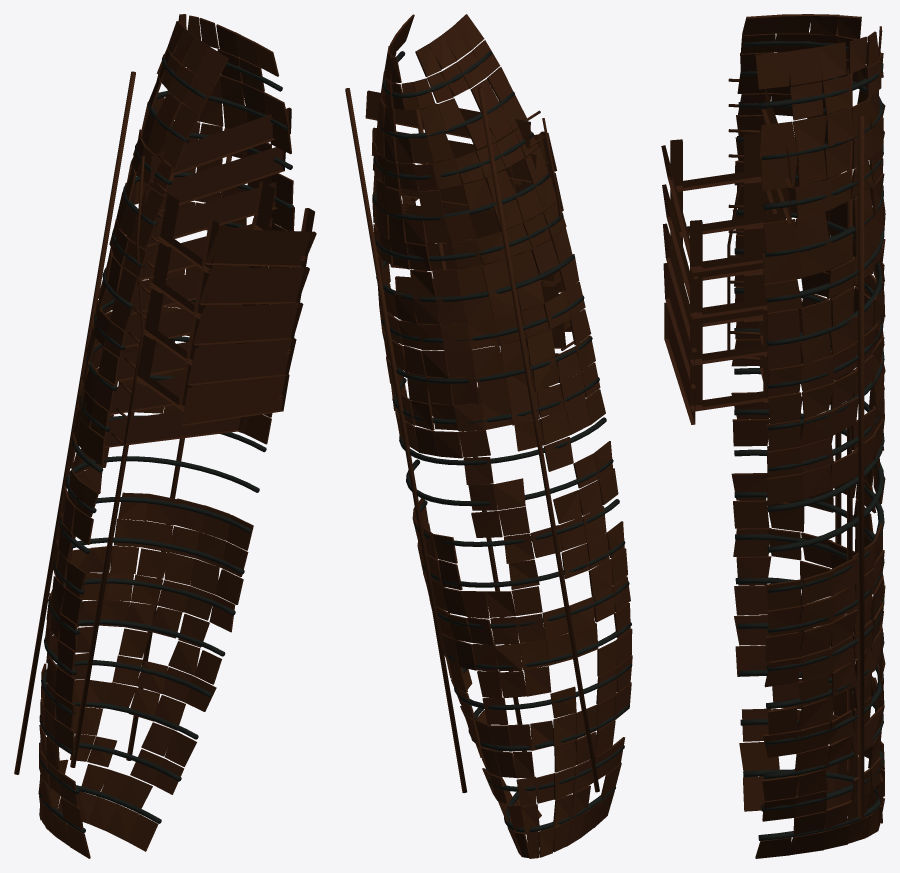
The model's file is shipwreck.obj.
3 renders of one model, left to right at view 1: azimuth 30°, elevation 25°; view 2: azimuth 150°, elevation 25°; view 3: azimuth 270°, elevation 25°, orthographic. The views are drawn at different scales.
Parts seen in each view (by area): view 1: collapsed_roof_0.001, collapsed_roof_1.001, collapsed_roof_2.001, collapsed_roof_3.001, longitudinal_-2.001, collapsed_roof_4.001, broken_deck_7.001, broken_deck_8.001, broken_deck_0.001, broken_deck_6.001, longitudinal_0.001, broken_deck_1.001 (+63 smaller); view 2: longitudinal_-2.001, longitudinal_2.001, broken_deck_8.001, hull_rib_09.001, hull_rib_13.001, hull_rib_08.001, broken_deck_7.001, hull_rib_07.001, hull_rib_06.001, hull_rib_11.001, hull_rib_14.001, broken_deck_5.001 (+100 smaller); view 3: longitudinal_2.001, hull_rib_08.001, collapsed_roof_0.001, collapsed_roof_1.001, hull_plate_29_11.001, hull_rib_18.001, hull_rib_05.001, hull_plate_27_11.001, hull_plate_29_10.001, longitudinal_0.001, collapsed_roof_2.001, hull_rib_09.001 (+128 smaller).
Boxes of the visible parts, x1,y1,x2,y2 form: collapsed_roof_0.001: (181, 374, 289, 425); collapsed_roof_1.001: (187, 338, 296, 385); collapsed_roof_2.001: (193, 302, 303, 345); collapsed_roof_3.001: (199, 267, 309, 305); longitudinal_-2.001: (14, 71, 135, 774); collapsed_roof_4.001: (205, 229, 316, 267); broken_deck_7.001: (145, 147, 285, 211); broken_deck_8.001: (150, 107, 291, 182); broken_deck_0.001: (104, 411, 243, 447); broken_deck_6.001: (139, 182, 277, 247); longitudinal_0.001: (70, 67, 191, 767); broken_deck_1.001: (109, 377, 237, 414); longitudinal_-2.001: (478, 87, 599, 792); longitudinal_2.001: (345, 88, 467, 792); broken_deck_8.001: (365, 90, 530, 149); hull_rib_09.001: (399, 417, 606, 465); hull_rib_13.001: (376, 254, 574, 301); hull_rib_08.001: (406, 459, 613, 506); broken_deck_7.001: (371, 127, 536, 182); hull_rib_07.001: (413, 499, 619, 546); hull_rib_06.001: (422, 541, 625, 587); hull_rib_11.001: (387, 336, 592, 383); hull_rib_14.001: (374, 214, 563, 261); broken_deck_5.001: (402, 204, 547, 247); longitudinal_2.001: (858, 115, 864, 818); hull_rib_08.001: (734, 409, 884, 552); collapsed_roof_0.001: (664, 302, 695, 424); collapsed_roof_1.001: (663, 263, 695, 388); hull_plate_29_11.001: (755, 51, 790, 89); hull_rib_18.001: (743, 40, 883, 108); hull_rib_05.001: (735, 534, 884, 671); hull_plate_27_11.001: (759, 121, 796, 158); hull_plate_29_10.001: (788, 47, 822, 85); longitudinal_0.001: (847, 68, 852, 771); collapsed_roof_2.001: (663, 223, 696, 352); hull_rib_09.001: (734, 368, 884, 512).
Size of the model in its own units: 9.73 by 28.47 by 6.53.
